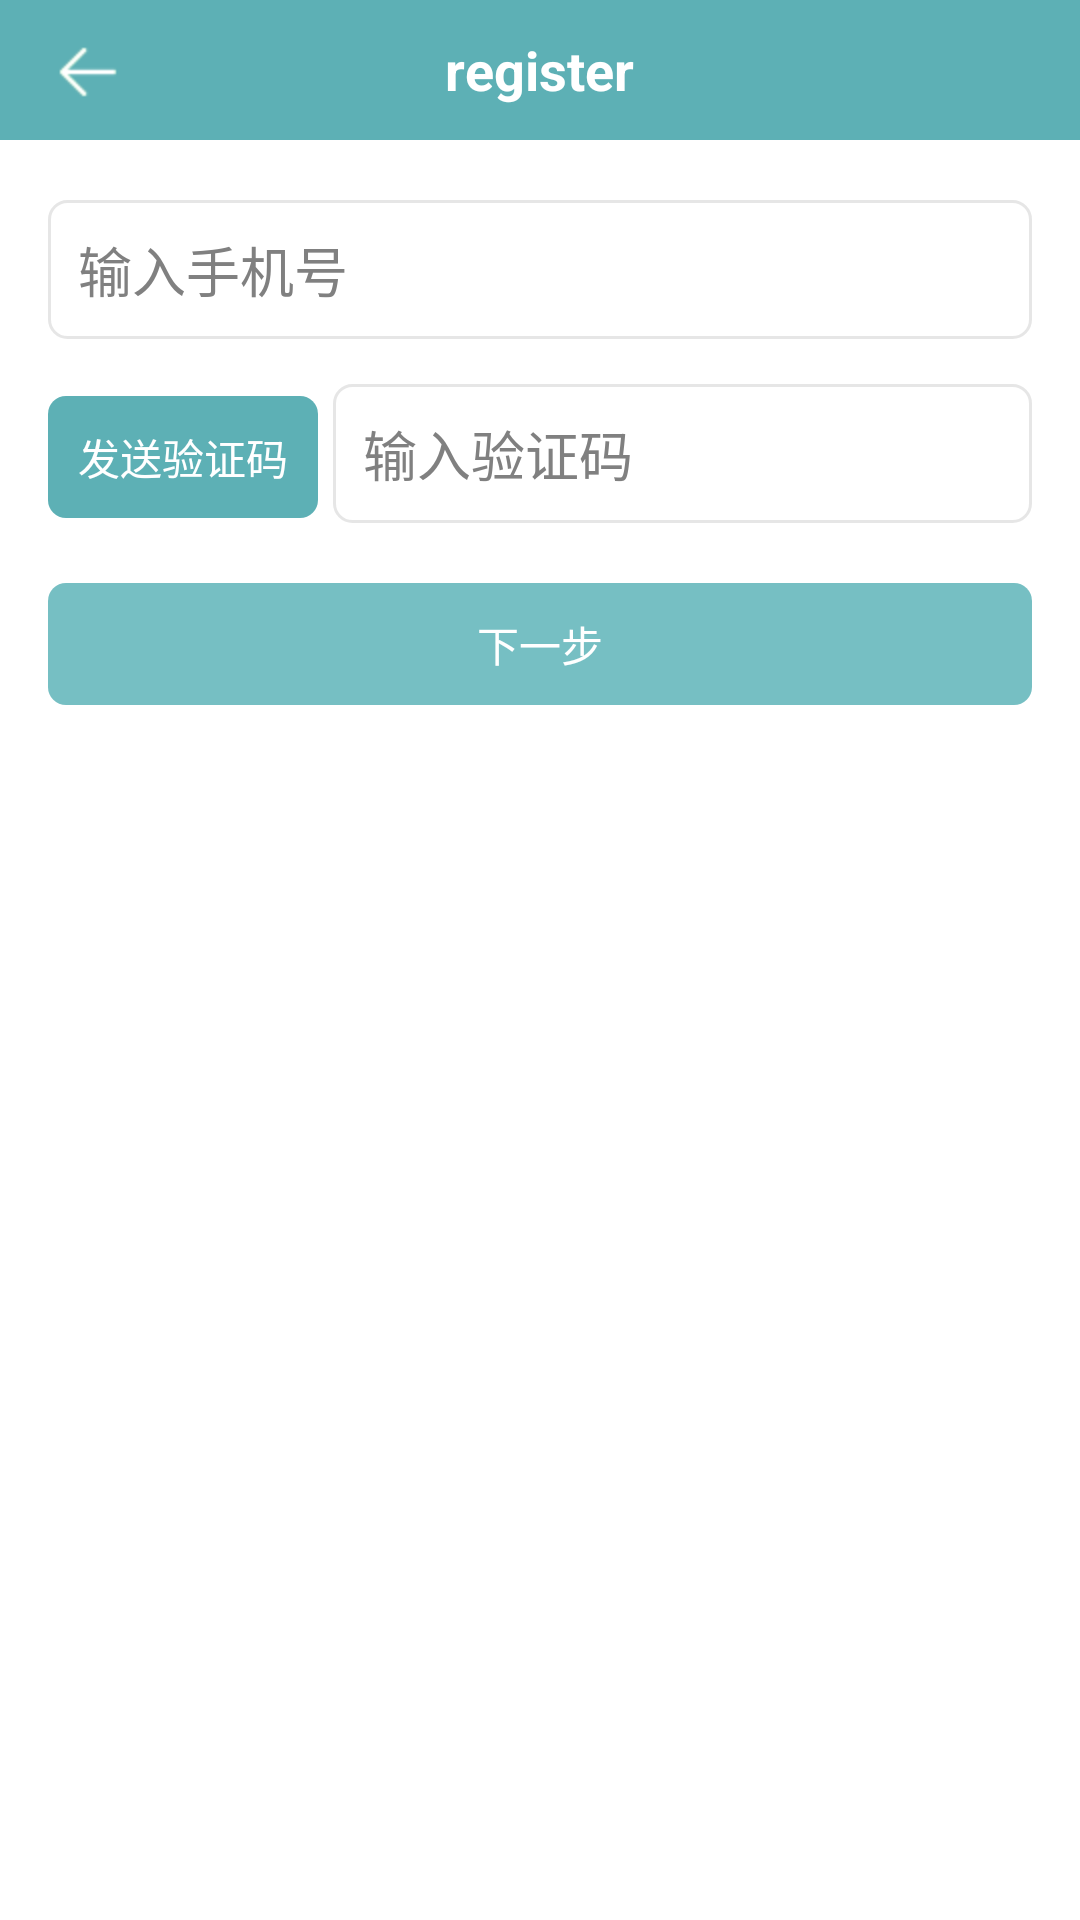

Locate icon controls on the screen. Image size 1080*1920, boxes as (x1, y1, x2, y2).
lyy top back: (59, 47, 117, 97)
